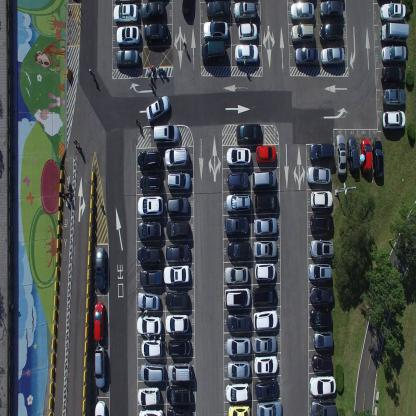car: (146, 93, 170, 123), (379, 22, 409, 44), (200, 40, 226, 64), (224, 286, 251, 309), (252, 309, 279, 332), (319, 21, 343, 46), (291, 21, 315, 46), (138, 194, 164, 217), (113, 2, 139, 25), (165, 383, 192, 405), (235, 123, 262, 145), (153, 123, 180, 145), (379, 0, 406, 22), (144, 22, 169, 45), (225, 146, 251, 168), (164, 146, 190, 168), (289, 0, 315, 22), (203, 19, 229, 41), (163, 264, 190, 285), (255, 377, 279, 400), (137, 148, 161, 171), (226, 240, 251, 262), (224, 215, 249, 237), (380, 64, 405, 86), (136, 315, 162, 336), (137, 245, 163, 266), (253, 193, 279, 214), (309, 141, 335, 162), (334, 134, 347, 176), (309, 376, 336, 396), (94, 344, 106, 389), (95, 246, 107, 291), (166, 312, 190, 334), (167, 194, 191, 216), (225, 264, 249, 286), (226, 193, 250, 215), (252, 170, 276, 192), (310, 284, 334, 306), (382, 108, 406, 130), (382, 86, 406, 108), (320, 45, 344, 67), (295, 46, 319, 68), (141, 0, 165, 22), (234, 42, 259, 63), (225, 336, 251, 356), (166, 362, 192, 382), (139, 362, 165, 382), (116, 48, 139, 70), (226, 313, 250, 334), (166, 219, 190, 240), (254, 354, 278, 375), (167, 171, 191, 192), (308, 261, 332, 282), (310, 213, 334, 234), (372, 138, 384, 180), (116, 26, 140, 47), (166, 242, 191, 262), (252, 285, 277, 305), (252, 334, 277, 354), (306, 164, 331, 184), (232, 1, 257, 21), (253, 240, 279, 259), (318, 0, 344, 19), (93, 300, 105, 341), (310, 397, 337, 415), (311, 352, 333, 374), (139, 221, 162, 242), (347, 136, 360, 173), (167, 338, 191, 358), (225, 383, 249, 403), (136, 386, 160, 406), (140, 268, 164, 288), (253, 216, 277, 236), (310, 238, 334, 258), (206, 0, 230, 20), (381, 44, 406, 63), (312, 331, 334, 352), (254, 261, 276, 282), (227, 171, 249, 192), (310, 306, 332, 327), (139, 172, 162, 192), (226, 361, 250, 380), (166, 290, 190, 309), (255, 400, 283, 416), (360, 137, 372, 174), (256, 145, 276, 167), (238, 22, 258, 44), (140, 339, 163, 358), (310, 190, 333, 209), (138, 292, 160, 311), (166, 404, 193, 415), (227, 404, 251, 415), (181, 0, 193, 19), (95, 398, 107, 416), (138, 407, 164, 415)
